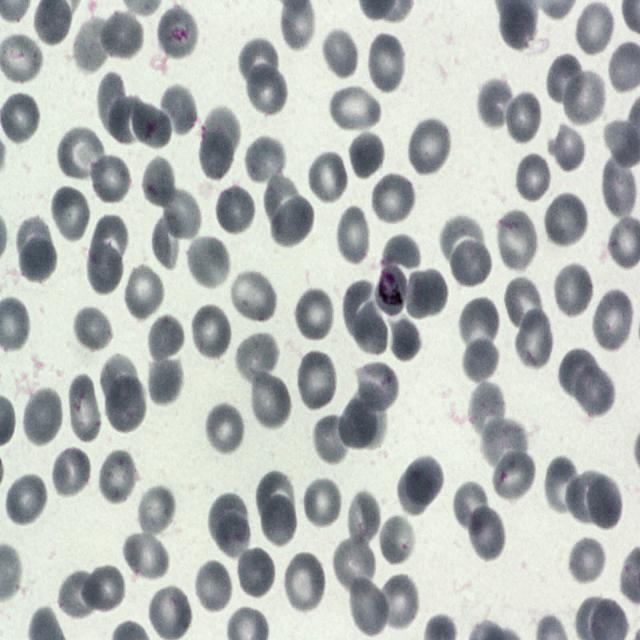red blood cell: (494, 209, 539, 274), (591, 288, 635, 354), (102, 375, 148, 438), (282, 551, 327, 615), (406, 116, 452, 178), (228, 267, 278, 324), (331, 534, 376, 597), (542, 191, 589, 251), (57, 124, 105, 182), (560, 67, 606, 127), (146, 582, 194, 639), (295, 349, 338, 412), (122, 263, 166, 322), (248, 371, 292, 430), (49, 184, 92, 244), (370, 171, 416, 227), (234, 332, 280, 388), (22, 387, 64, 448), (503, 275, 545, 336), (466, 380, 510, 438), (122, 528, 170, 581), (326, 83, 379, 131), (458, 297, 501, 356), (366, 32, 406, 95), (343, 280, 387, 337), (97, 448, 140, 506), (190, 303, 232, 362), (450, 480, 493, 537), (70, 15, 110, 76), (378, 573, 420, 631), (482, 418, 527, 472), (186, 235, 230, 290), (56, 570, 100, 625), (5, 472, 48, 528), (566, 470, 609, 526), (294, 286, 336, 343), (573, 0, 615, 57), (81, 562, 126, 615), (98, 9, 143, 62), (64, 376, 98, 446), (334, 205, 373, 266), (404, 267, 448, 321), (213, 182, 256, 237), (545, 52, 585, 111), (307, 150, 349, 206), (552, 262, 594, 318), (0, 89, 42, 144), (193, 558, 234, 614), (89, 152, 132, 205), (244, 136, 287, 189), (516, 305, 551, 370), (464, 506, 506, 560), (157, 84, 198, 139), (270, 199, 315, 249), (356, 361, 401, 411), (160, 185, 200, 241), (348, 580, 388, 636), (312, 413, 355, 465), (302, 476, 343, 530), (338, 394, 379, 448), (503, 90, 543, 145), (566, 535, 608, 587), (244, 64, 286, 116), (380, 234, 422, 286), (92, 215, 130, 272), (236, 546, 276, 600), (52, 446, 92, 500), (136, 484, 176, 538), (543, 452, 579, 512), (574, 366, 616, 417), (146, 314, 186, 367), (441, 214, 485, 262), (514, 151, 553, 205), (450, 239, 492, 289), (460, 336, 501, 387), (203, 400, 243, 452), (259, 493, 296, 549), (347, 130, 386, 183), (320, 26, 358, 80), (141, 156, 179, 210), (587, 477, 623, 534), (87, 241, 125, 295), (146, 355, 184, 409), (157, 10, 198, 60), (603, 158, 636, 220), (254, 470, 296, 518), (207, 491, 248, 540), (73, 304, 114, 353), (129, 98, 170, 147), (239, 38, 279, 88), (404, 454, 444, 504), (560, 348, 598, 400), (108, 95, 146, 147), (493, 452, 535, 499), (101, 355, 139, 406), (476, 80, 514, 130), (348, 490, 380, 549), (264, 173, 302, 222), (18, 236, 58, 282), (152, 216, 185, 271), (203, 107, 240, 156), (354, 301, 388, 354), (198, 128, 232, 179), (396, 468, 429, 518), (381, 516, 415, 564), (15, 218, 53, 260), (551, 124, 586, 169), (99, 73, 125, 133), (217, 513, 250, 558), (392, 320, 422, 362)
trophozoite: (374, 262, 408, 317)
